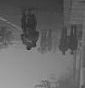person: (21, 10, 39, 50), (68, 24, 80, 55), (58, 26, 69, 55), (38, 29, 47, 53), (46, 31, 53, 51)
